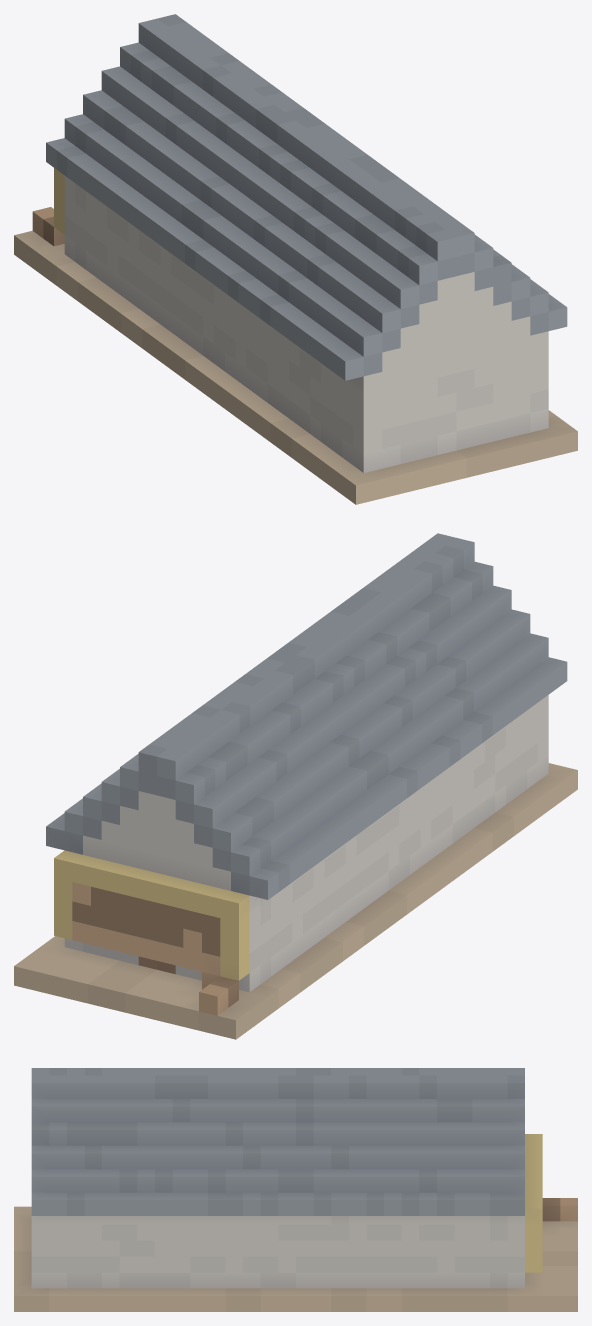
File: quartz_quarry.lite.glb
3 views of the same model, one above another, from view 1: azimuth 30°, elevation 25°; view 2: azimuth 150°, elevation 25°; view 3: azimuth 270°, elevation 25° (orthographic). The views are drawn at different scales.
Visible parts, largest first — view 1: quartz_quarry; view 2: quartz_quarry; view 3: quartz_quarry.
Part boxes in pixels (x1=…): quartz_quarry: x1=14, y1=14, x2=577, y2=504; quartz_quarry: x1=14, y1=533, x2=577, y2=1039; quartz_quarry: x1=14, y1=1068, x2=577, y2=1311.
Bounding box in the file's own units: 3 × 3 × 8.
